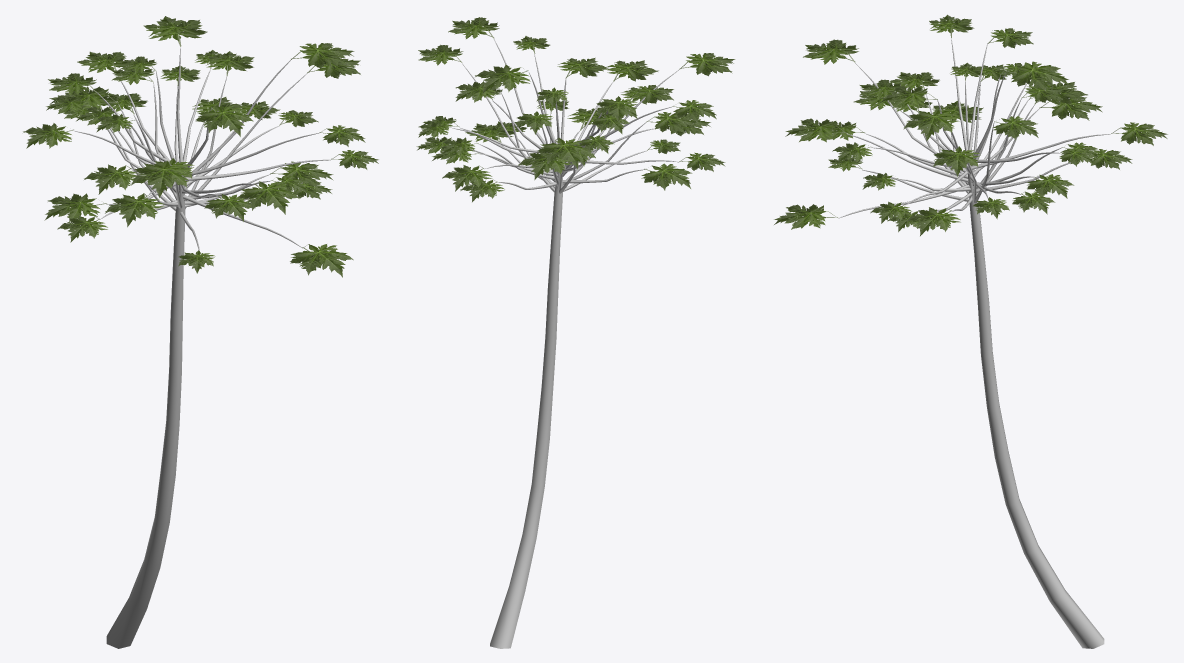
File: papayaTree.fbx
The picture shows the model from 3 angles, left to right: view 1: azimuth 30°, elevation 25°; view 2: azimuth 150°, elevation 25°; view 3: azimuth 270°, elevation 25°; orthographic projection. The views are drawn at different scales.
Visible parts, largest first — view 1: stemslevel0, stemslevel1, square16, square25, square19, square28, square35, square12, square26, square9, square33, square22 (+3 smaller); view 2: stemslevel0, stemslevel1, square5, square33, square12, square25, square30, square24, square37, square34, square19, square9 (+1 smaller); view 3: stemslevel0, stemslevel1, square33, square26, square7, square16, square4, square30, square19, square24, square17, square25 (+2 smaller).
Part boxes in pixels (x1,y1,x2,y2): stemslevel0: (106,175,185,648); stemslevel1: (74,47,330,250); square16: (290,244,353,277); square25: (131,160,192,197); square19: (238,181,298,214); square28: (105,193,164,227); square35: (195,105,253,136); square12: (44,193,103,222); square26: (291,43,353,67); square9: (84,164,137,194); square33: (144,19,207,46); square22: (204,194,255,221); stemslevel0: (490,172,562,648); stemslevel1: (452,39,678,193); square5: (537,138,592,169); square33: (475,64,530,93); square12: (641,163,690,190); square25: (679,53,733,74); square30: (442,165,492,191); square24: (518,152,567,180); square37: (596,96,637,122); square34: (673,100,716,122); square19: (606,61,657,81); square9: (646,112,697,133); stemslevel0: (968,163,1104,648); stemslevel1: (838,38,1110,218); square33: (1006,61,1069,91); square26: (903,109,959,141); square7: (906,207,960,236); square16: (774,204,837,229); square4: (933,146,979,176); square30: (1111,122,1167,145); square19: (785,118,846,141); square24: (1039,96,1102,120); square17: (1027,174,1073,198); square25: (803,39,858,62).
Bounding box in the file's own units: 2.47 × 4.37 × 2.68.
